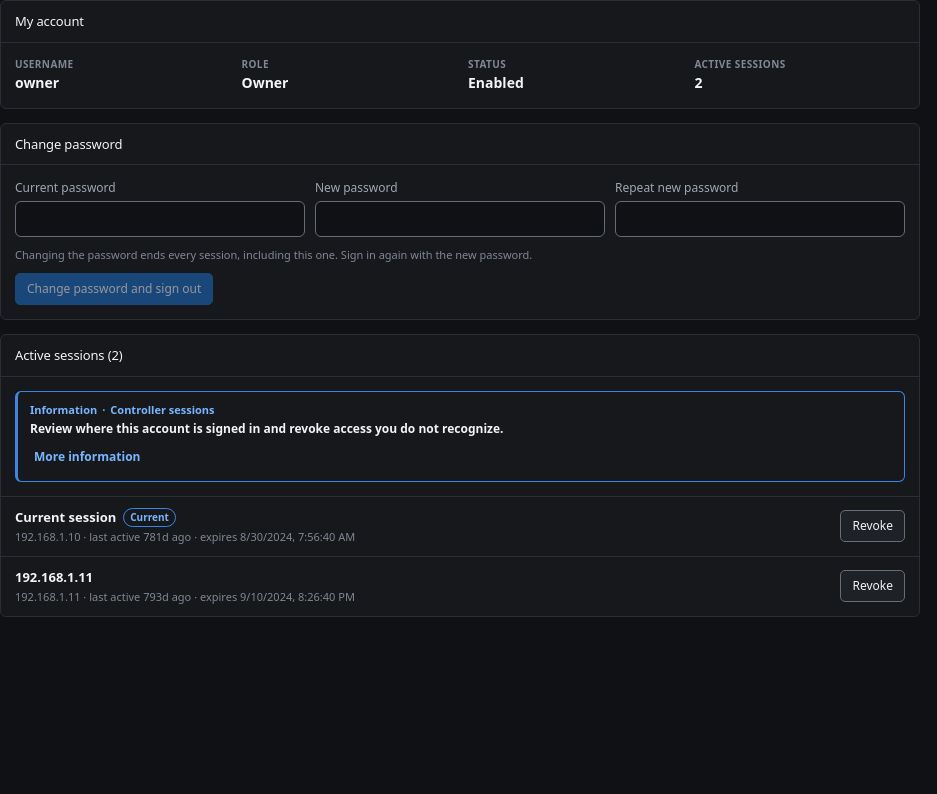
Test case: My Account › keeps the account count consistent after revoking another session
The width and height of the screenshot is (937, 794).
Click the button with aria-label "revoke session from 192.168.1.11" at (873, 586), box [840,570,905,602]
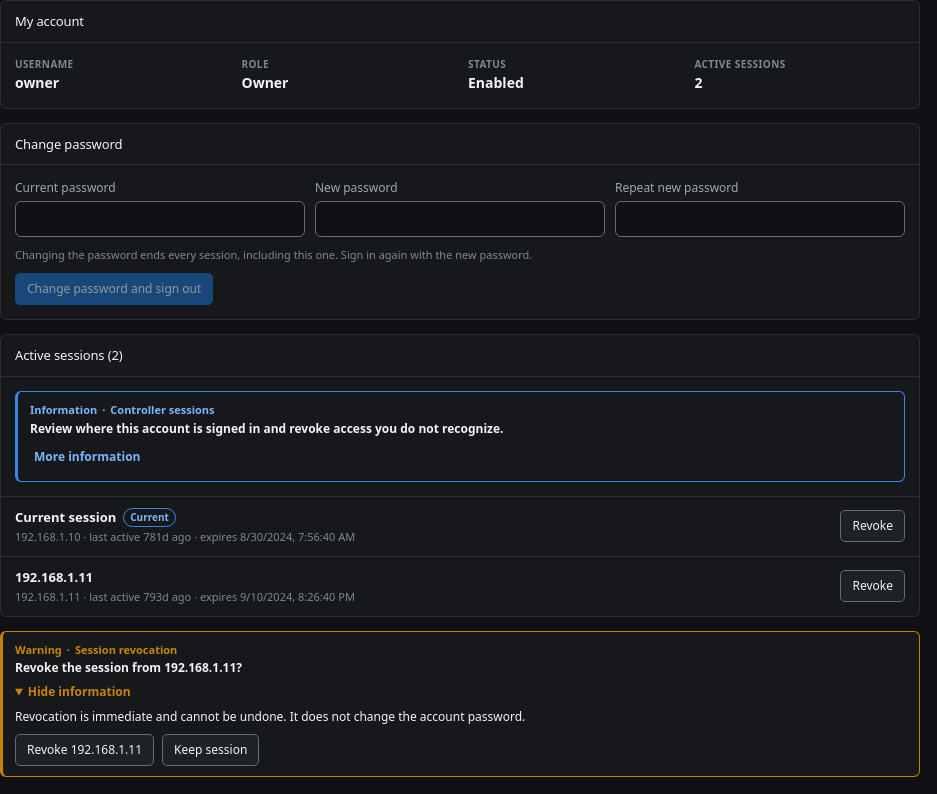
Click the button "Revoke 192.168.1.11" at (85, 750), box [15,734,154,766]
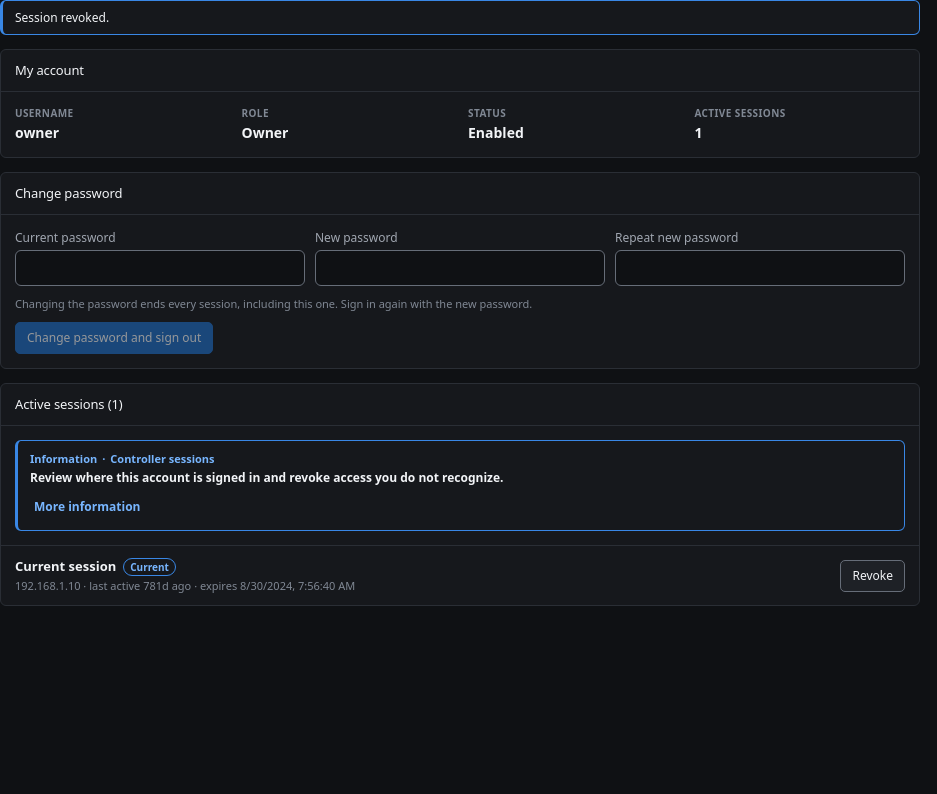
Expected: the text "192.168.1.11" is gone
